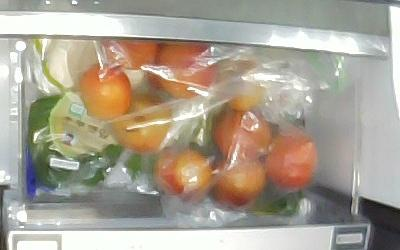prune_vinyl: (111, 96, 173, 154), (261, 130, 319, 191), (154, 148, 214, 204), (212, 107, 272, 162), (208, 153, 267, 208), (157, 46, 216, 97), (82, 64, 132, 122), (98, 39, 158, 69)
